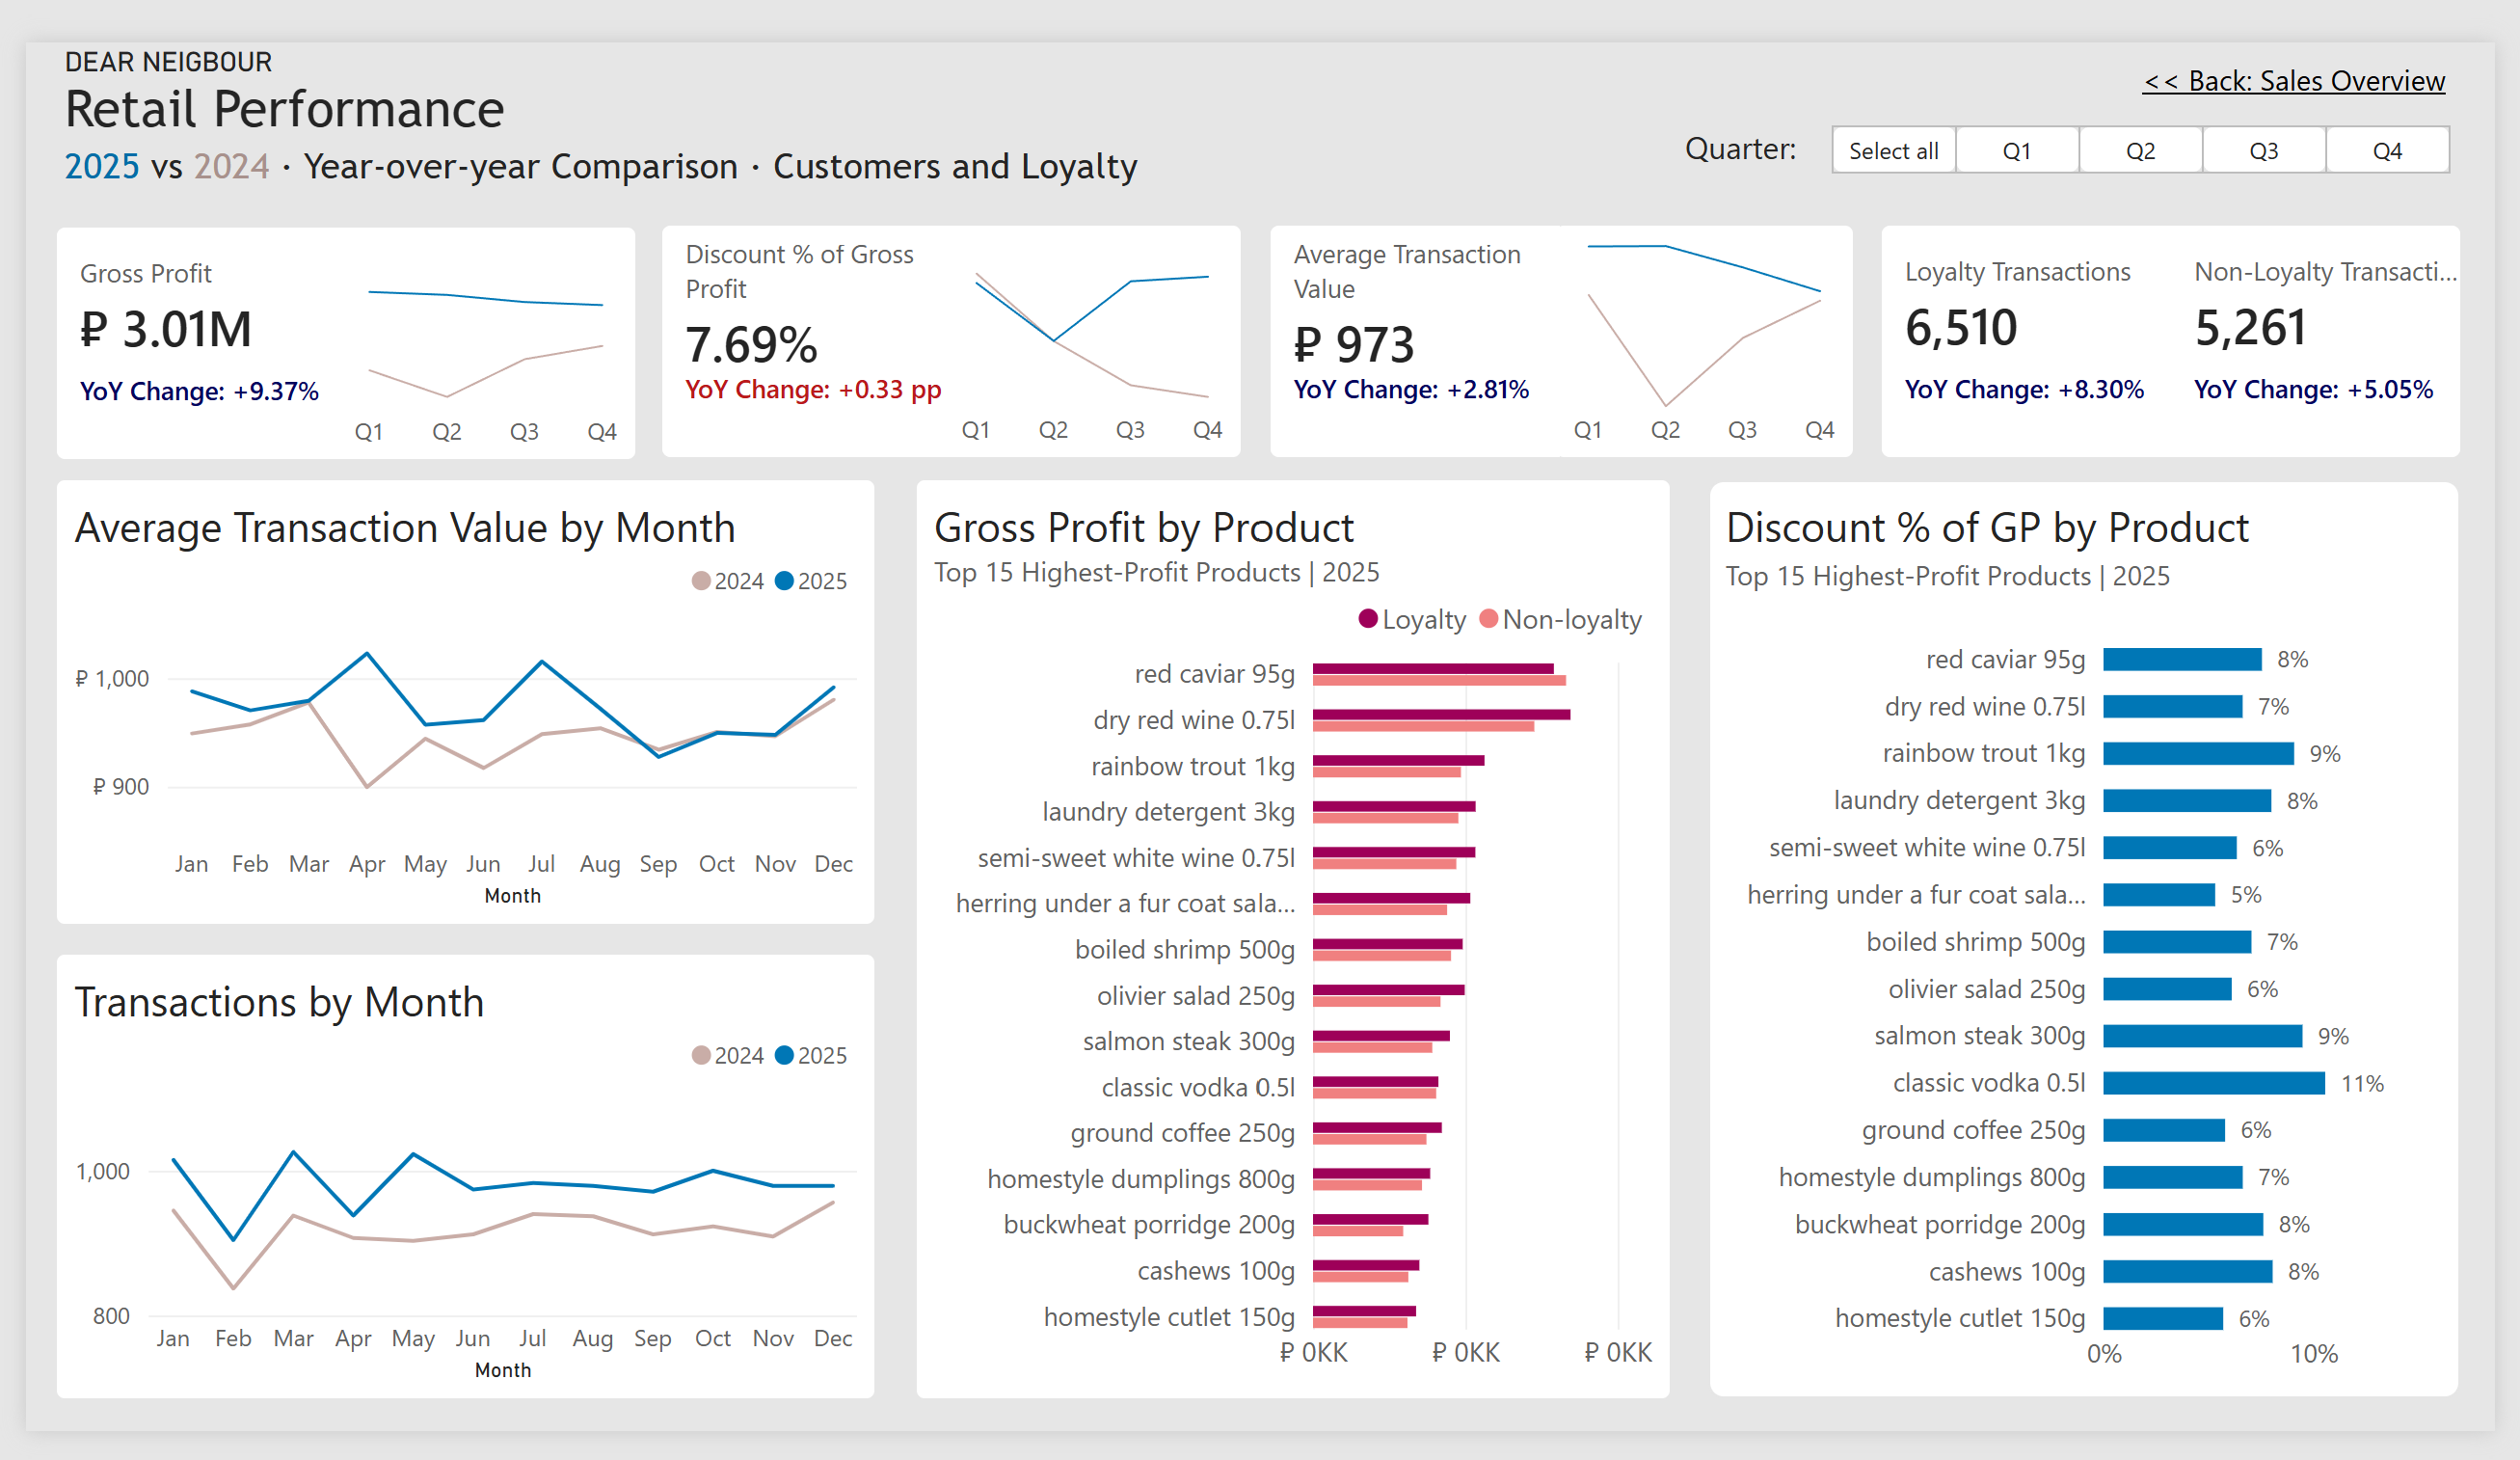

The page's visual inventory and layout, read from the dashboard file:
{"tool":"powerbi","page":{"name":"Customers & Loyalty","canvas":[1280,720],"ordinal":1},"visuals":[{"type":"textbox","box":[0,0,290,60],"z":0},{"type":"advancedSlicerVisual","fields":{"Values":["calendar.Quarter"]},"box":[936,43,325,25],"z":1000},{"type":"textbox","box":[0,53.5,644.9,33.1],"z":2000},{"type":"cardVisual","fields":{"Data":["fact_sales.Discount % of Gross Profit"]},"box":[330,95,150,120],"z":3000},{"type":"cardVisual","fields":{"Data":["fact_sales.Average Check"]},"box":[645,95,150,120],"z":4000},{"type":"cardVisual","fields":{"Data":["fact_sales.Loyalty Transactions"]},"box":[962.1,95,150,120],"z":5000},{"type":"lineChart","title":"Gross Margin","fields":{"Category":["calendar.Quarter"],"Series":["calendar.Year"],"Y":["fact_sales.Average Check"]},"box":[793.3,95,154.1,120],"z":6000},{"type":"lineChart","title":"Gross Margin","fields":{"Category":["calendar.Quarter"],"Series":["calendar.Year"],"Y":["fact_sales.Gross Profit"]},"box":[161.4,95.9,154.5,120],"z":7000},{"type":"lineChart","title":"Gross Margin","fields":{"Category":["calendar.Quarter"],"Series":["calendar.Year"],"Y":["fact_sales.Discount % of Gross Profit"]},"box":[476,95,154.1,120],"z":8000},{"type":"cardVisual","fields":{"Data":["fact_sales.Non-Loyalty Transactions"]},"box":[1112.1,95,150,120],"z":9000},{"type":"clusteredBarChart","title":"Gross Profit by Subcategory","fields":{"Category":["dim_products.subcategory"],"Series":["fact_sales.Customer Type"],"Y":["fact_sales.Gross Profit"]},"box":[462,226.7,390,476.7],"z":10000},{"type":"textbox","box":[860,43,75,25],"z":11000},{"type":"cardVisual","fields":{"Data":["fact_sales.Gross Profit"]},"box":[15.6,95.6,150,120],"z":12000},{"type":"lineChart","title":"Transactions by Month","fields":{"Category":["calendar.Month"],"Series":["calendar.Year"],"Y":["fact_sales.Transactions"]},"box":[15.6,473.3,424.4,230],"z":13000},{"type":"lineChart","title":"Average Transaction Value  by Month","fields":{"Category":["calendar.Month"],"Series":["calendar.Year"],"Y":["fact_sales.Average Check"]},"box":[15.6,226.7,424.4,230],"z":14000},{"type":"clusteredBarChart","title":"Discount % of GP by Subcategory","fields":{"Category":["dim_products.subcategory"],"Y":["fact_sales.Discount % of Gross Profit"]},"box":[872.2,226.7,390,476.7],"z":15000},{"type":"actionButton","title":"Next: Customers & Loyalty","box":[1089.4,0,191.6,37],"z":16000}]}

Visuals, with their boxes in screenshot pixels (x1, y1, x2, y2), scaled from the page's 1280x720 canvas onto the 2520x1460 screenshot:
textbox: Rect(0, 0, 571, 122)
advancedSlicerVisual - calendar.Quarter: Rect(1842, 87, 2482, 138)
textbox: Rect(0, 108, 1270, 176)
cardVisual - fact_sales.Discount % of Gross Profit: Rect(650, 193, 945, 436)
cardVisual - fact_sales.Average Check: Rect(1270, 193, 1566, 436)
cardVisual - fact_sales.Loyalty Transactions: Rect(1894, 193, 2189, 436)
"Gross Margin" lineChart: Rect(1562, 193, 1865, 436)
"Gross Margin" lineChart: Rect(318, 195, 622, 438)
"Gross Margin" lineChart: Rect(937, 193, 1241, 436)
cardVisual - fact_sales.Non-Loyalty Transactions: Rect(2189, 193, 2484, 436)
"Gross Profit by Subcategory" clusteredBarChart: Rect(909, 460, 1677, 1426)
textbox: Rect(1693, 87, 1840, 138)
cardVisual - fact_sales.Gross Profit: Rect(31, 194, 326, 437)
"Transactions by Month" lineChart: Rect(31, 960, 867, 1426)
"Average Transaction Value  by Month" lineChart: Rect(31, 460, 867, 926)
"Discount % of GP by Subcategory" clusteredBarChart: Rect(1717, 460, 2485, 1426)
"Next: Customers & Loyalty" actionButton: Rect(2145, 0, 2519, 75)
